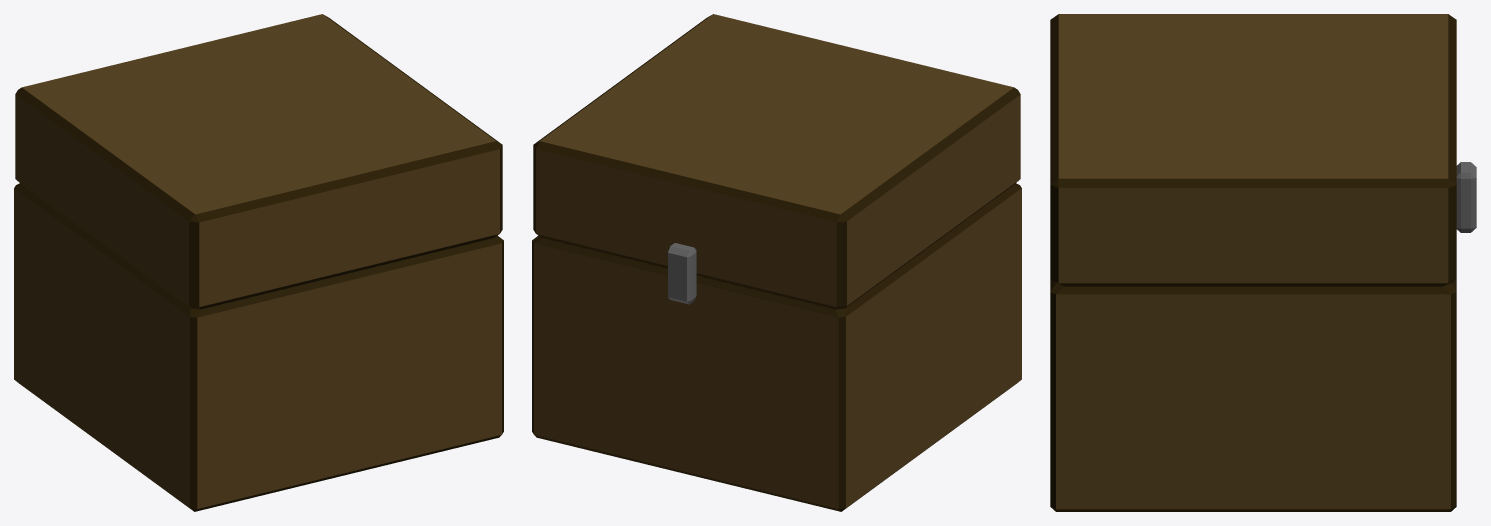
3 views of the same model, side by side, from view 1: azimuth 30°, elevation 25°; view 2: azimuth 150°, elevation 25°; view 3: azimuth 270°, elevation 25° (orthographic). The views are drawn at different scales.
Visible parts, largest first — view 1: Cube; view 2: Cube; view 3: Cube.
Boxes of the visible parts, left/top/right/bottom form: Cube: left=14, top=14, right=503, bottom=511; Cube: left=532, top=14, right=1021, bottom=511; Cube: left=1050, top=14, right=1476, bottom=511.
Bounding box in the file's own units: 54.73 × 49.36 × 57.42.
